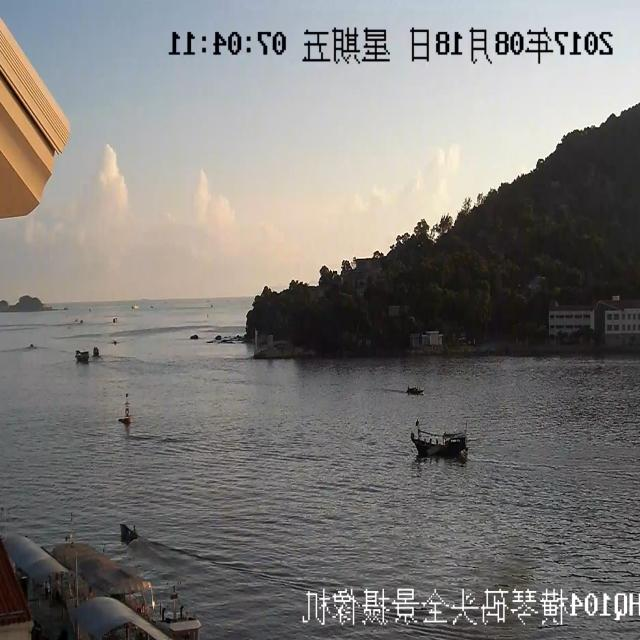buoy: (114, 368, 144, 428)
fishing boat: (402, 407, 474, 478), (402, 376, 424, 402)
